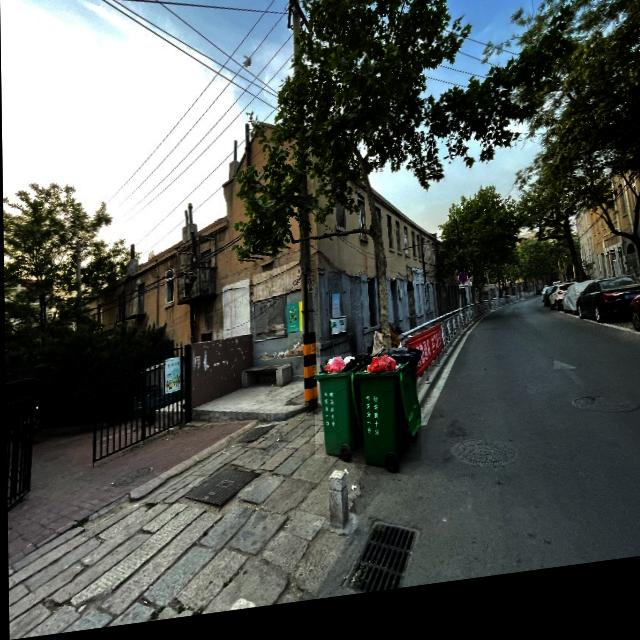overflow: (352, 359, 420, 480), (312, 362, 356, 467)
